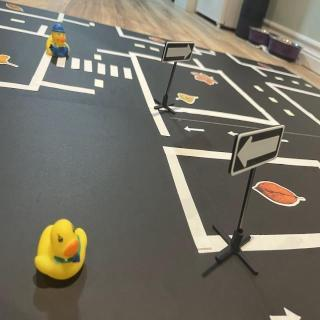duck_regular: (36, 221, 88, 281)
duck_specialty: (46, 24, 71, 58)
road_crosswalk: (55, 56, 135, 84)
road_oneway: (269, 304, 304, 320), (184, 125, 208, 137), (228, 131, 238, 139)
sign_oneway_left: (232, 127, 286, 179)
sign_oneway_right: (162, 43, 196, 64)
